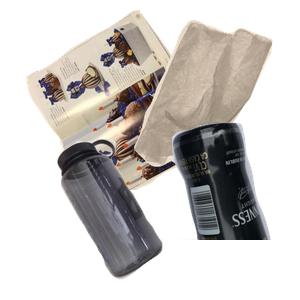glass: (106, 120, 300, 300)
paper: (24, 10, 235, 190)
plastic: (54, 136, 209, 300)
trash: (132, 17, 300, 177)
